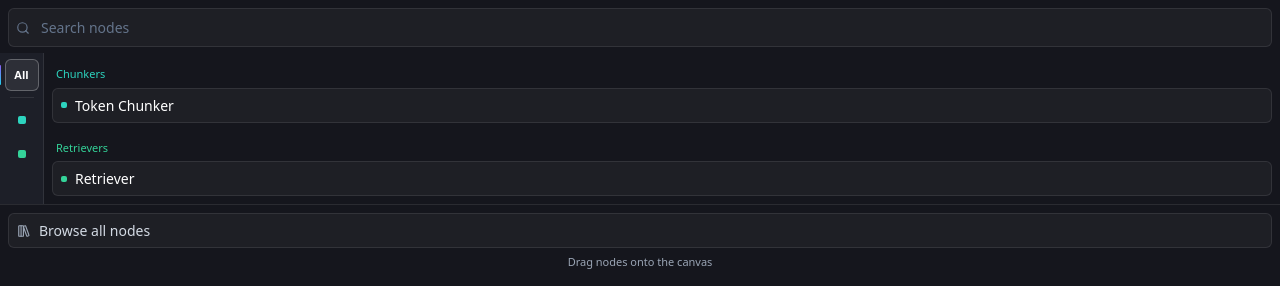
PipelineNodeLibrary › finds a node by the label its instance carries on the canvas
This screenshot has width=1280, height=286.
Type "Semantic Retriever" into the search field labelled "Search nodes" at (640,28), box [8,8,1272,47]
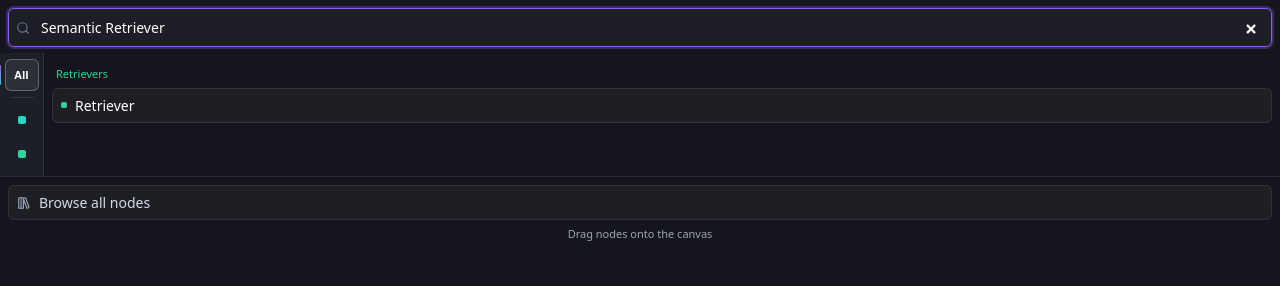
expect the button "Retriever" is shown: met, box [52,88,1272,122]
expect the button "Token Chunker" is gone: met
